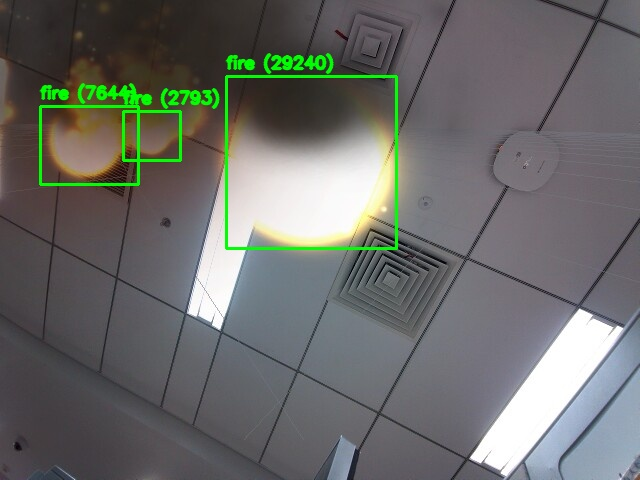fire: (226, 76, 396, 248), (40, 106, 138, 184), (123, 111, 180, 160)
